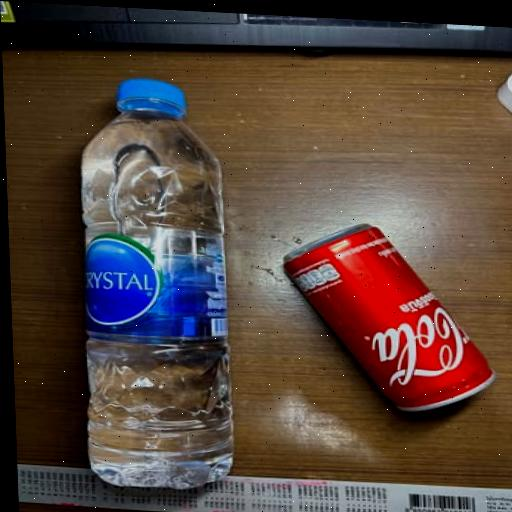ba: (48, 57, 261, 508)
bottle: (268, 189, 505, 440)
